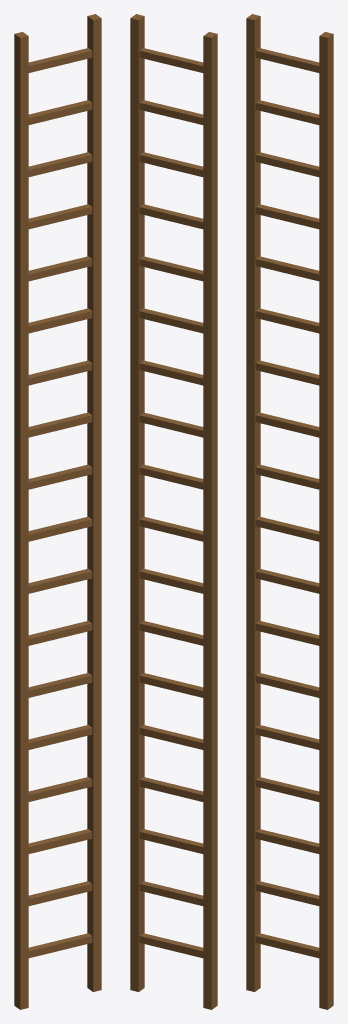
File: roof_ladder.glb
3 renders of one model, left to right at view 1: azimuth 30°, elevation 25°; view 2: azimuth 150°, elevation 25°; view 3: azimuth 330°, elevation 25°, orthographic.
Parts seen in each view (by area): view 1: rails_ladder_wood, rungs_ladder_wood; view 2: rails_ladder_wood, rungs_ladder_wood; view 3: rails_ladder_wood, rungs_ladder_wood.
Boxes of the visible parts, x1,y1,x2,y2 form: rails_ladder_wood: (14,14,101,1009); rungs_ladder_wood: (28,48,92,958); rails_ladder_wood: (130,14,217,1009); rungs_ladder_wood: (139,48,203,958); rails_ladder_wood: (246,14,333,1009); rungs_ladder_wood: (255,48,319,958).
Bounding box in the file's own units: 0.49 × 5.6 × 0.06.
